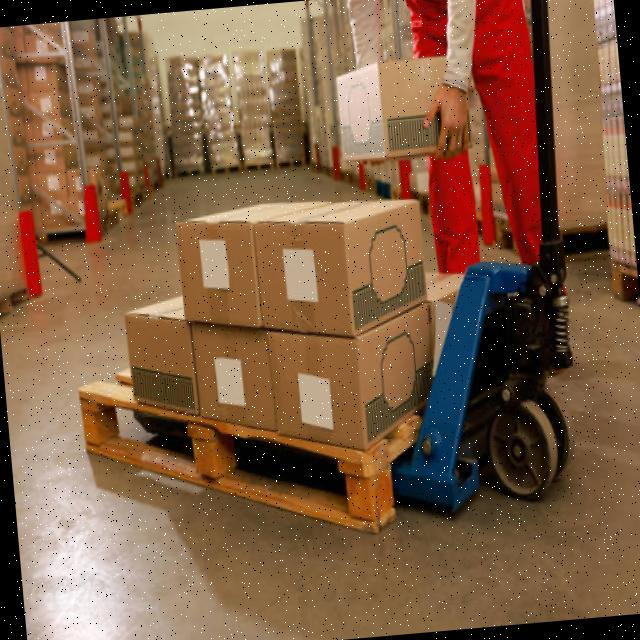Wooden-Pallets: (80, 388, 397, 531)
